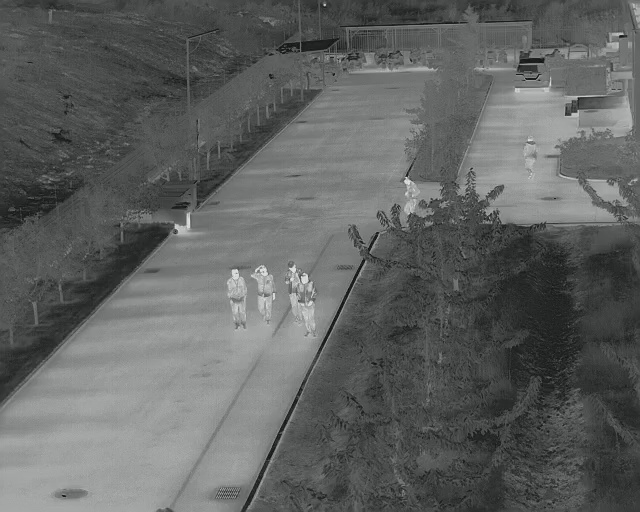person: (249, 262, 278, 327), (298, 273, 322, 341), (225, 267, 248, 331), (283, 259, 306, 320), (522, 133, 540, 181), (401, 176, 421, 219)
vehicle: (512, 56, 551, 94)
